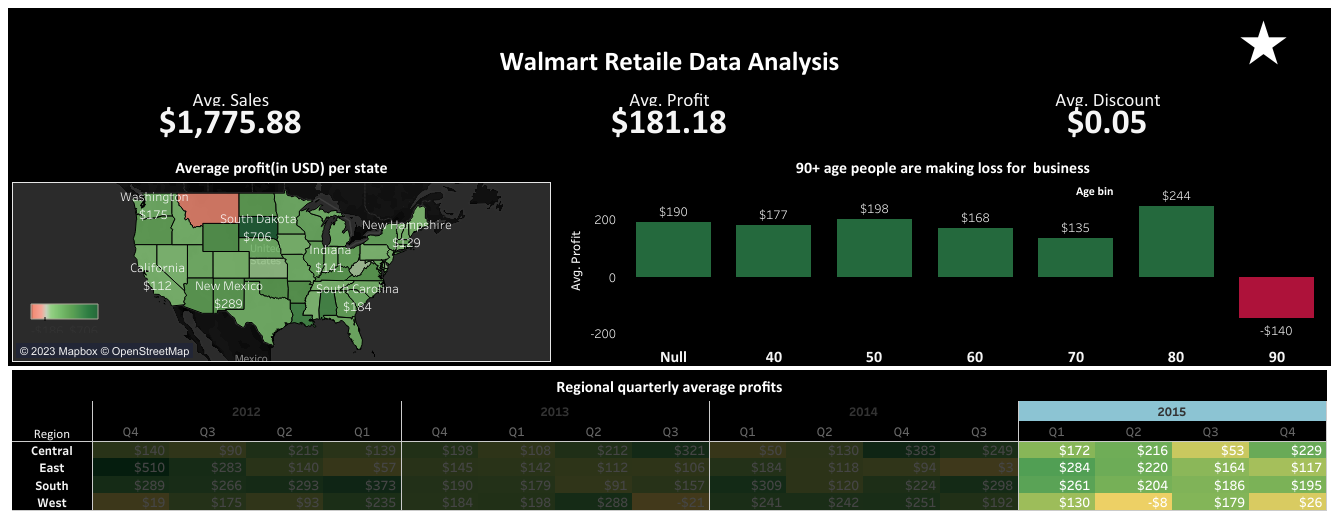

What the dashboard file says about the page in this screenshot:
{"tool":"tableau","page":{"name":"Dashboard 1","canvas":[1000,1000],"units":"permille","ordinal":0},"visuals":[{"type":"text","box":[6.9,13.5,986.1,125]},{"type":"worksheet","title":"Data set info","mark":"Shape","box":[903,25.3,81.4,109.8]},{"type":"worksheet","title":"Average measures","mark":"Automatic","box":[6.9,138.5,986.1,109.8]},{"type":"worksheet","title":"state vs profit","mark":"Multipolygon","box":[6.9,248.3,473.6,442.6]},{"type":"worksheet","title":"Age vs Profit","mark":"Automatic","rows":["Profit"],"cols":["Customer Age (bin)"],"box":[480.5,248.3,512.5,442.6]},{"type":"parameter","param":"[Parameters].[Parameter 1]","box":[728.1,293.9,138.5,74.3]},{"type":"legend","title":"state vs profit","param":"[federated.0gmrpyb1vni4ue12ze5bq0rkc3cw].[avg:Profit:qk]","box":[19.9,587.8,121.2,65.9]},{"type":"worksheet","title":"Regional profit","mark":"Square","rows":["Region"],"cols":["Order Date","Order Date"],"box":[6.9,690.9,986.1,295.6]}]}

Visuals, with their boxes on the dashboard's canvas, which has no fixed pixel size, in thousandths of its width and height (x1, y1, x2, y2). These are canvas units, not pixel positions in the 1338x522 screenshot, which may show the page scaled, cropped or inside an application window:
text: select_region(7, 14, 993, 138)
"Data set info" worksheet (Shape marks): select_region(903, 25, 984, 135)
"Average measures" worksheet: select_region(7, 138, 993, 248)
"state vs profit" worksheet (Multipolygon marks): select_region(7, 248, 480, 691)
"Age vs Profit" worksheet: select_region(480, 248, 993, 691)
parameter: select_region(728, 294, 867, 368)
"state vs profit" legend: select_region(20, 588, 141, 654)
"Regional profit" worksheet (Square marks): select_region(7, 691, 993, 986)
